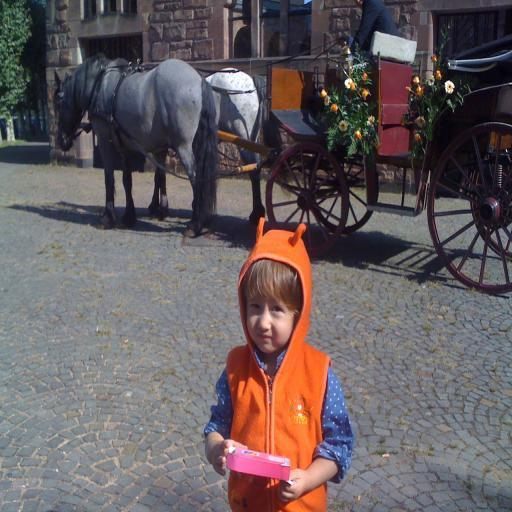horse: (51, 58, 221, 242), (204, 62, 272, 232)
